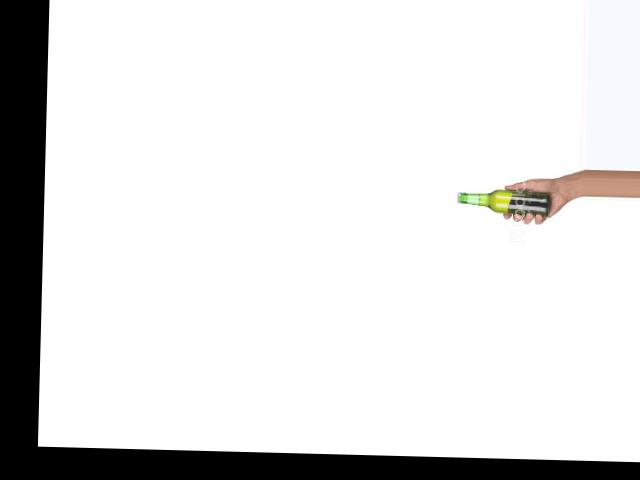beer: (456, 187, 550, 214)
